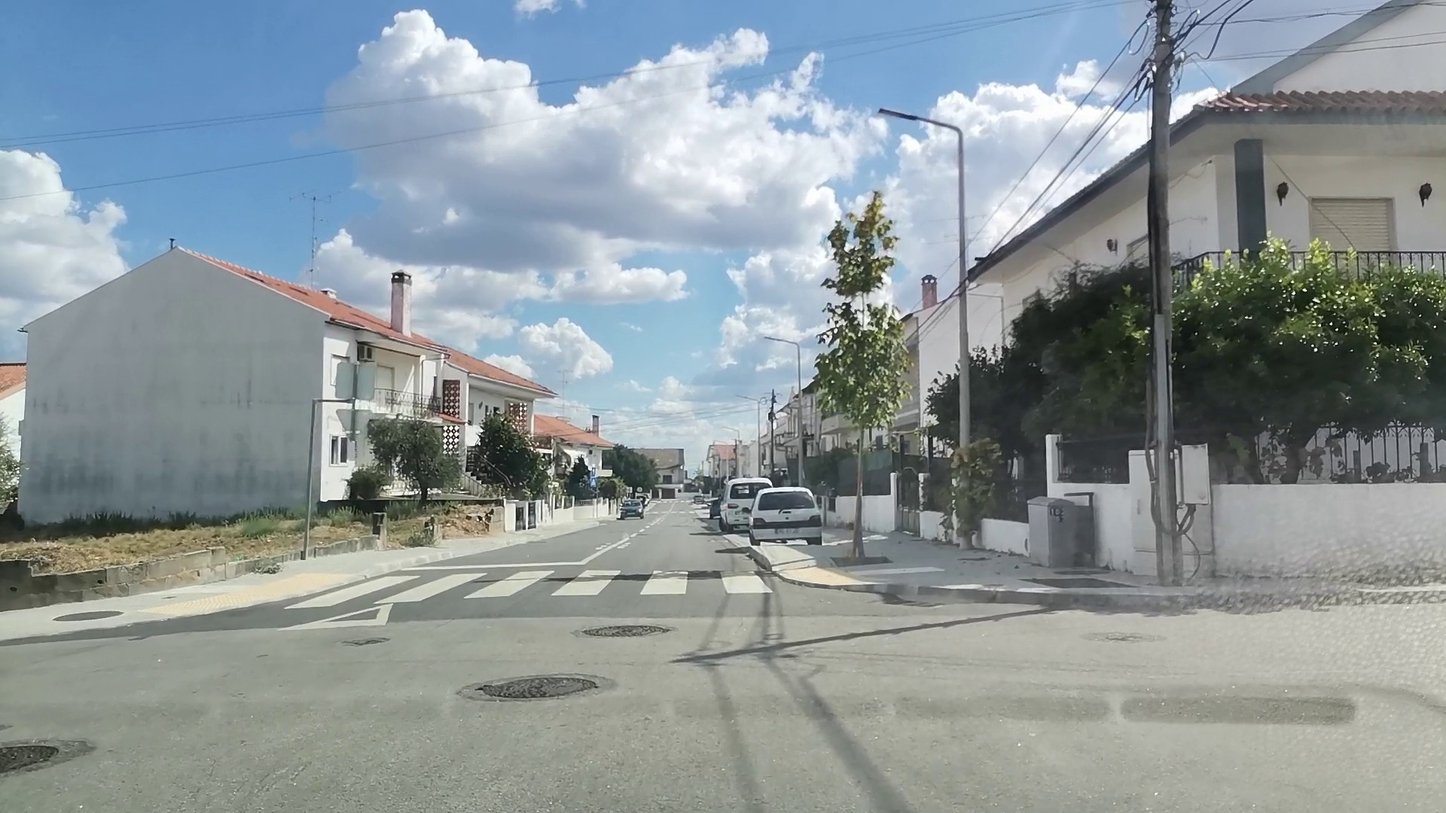Stairs: (287, 568, 779, 607)
